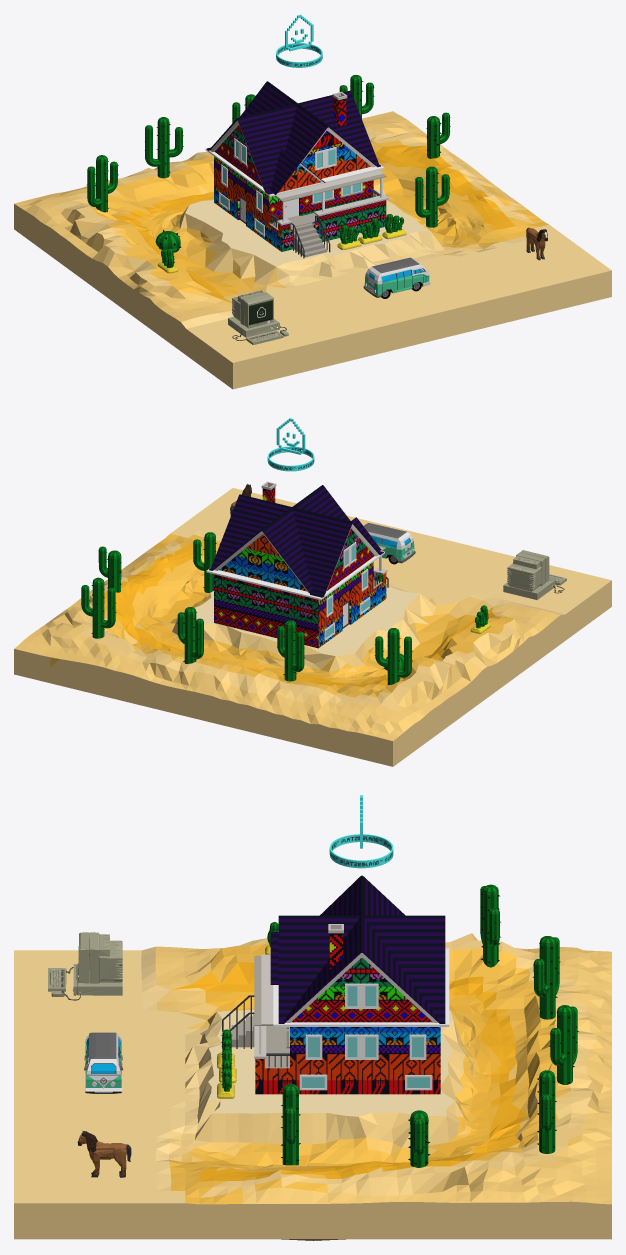
3 renders of one model, top to bottom at view 1: azimuth 30°, elevation 25°; view 2: azimuth 150°, elevation 25°; view 3: azimuth 270°, elevation 25°, orthographic. The views are drawn at different scales.
Visible parts, largest first — view 1: Cube.001, Cube.966, OBJRANDOM_RETRO_PC, VEHICLES_VAN, Cylinder.044, Cylinder.037, Cylinder.045, TYPE_PREMIUM, Cylinder.038, Cylinder.042, ANIMAL_CABALLO; view 2: Cube.001, Cube.966, OBJRANDOM_RETRO_PC, Cylinder.042, Cylinder.045, Cylinder.044, VEHICLES_VAN, Cylinder.043, TYPE_PREMIUM, Cylinder.037, Cylinder.038; view 3: Cube.001, Cube.966, OBJRANDOM_RETRO_PC, VEHICLES_VAN, Cylinder.044, Cylinder.043, Cylinder.045, Cylinder.042, Cylinder.037, TYPE_PREMIUM, ANIMAL_CABALLO, Cylinder.038.
Part boxes in pixels (x1,y1,x2,y2): Cube.001: [14, 111, 611, 389]; Cube.966: [205, 81, 388, 258]; OBJRANDOM_RETRO_PC: [228, 290, 288, 344]; VEHICLES_VAN: [363, 257, 430, 298]; Cylinder.044: [145, 117, 183, 178]; Cylinder.037: [415, 166, 449, 227]; Cylinder.045: [87, 155, 118, 212]; TYPE_PREMIUM: [276, 14, 322, 67]; Cylinder.038: [426, 112, 450, 158]; Cylinder.042: [339, 75, 374, 118]; ANIMAL_CABALLO: [526, 227, 547, 260]; Cube.001: [14, 488, 611, 766]; Cube.966: [206, 481, 388, 648]; OBJRANDOM_RETRO_PC: [503, 550, 566, 599]; Cylinder.042: [81, 577, 116, 638]; Cylinder.045: [374, 628, 412, 684]; Cylinder.044: [277, 620, 304, 681]; VEHICLES_VAN: [363, 523, 415, 564]; Cylinder.043: [177, 607, 203, 663]; TYPE_PREMIUM: [267, 418, 314, 471]; Cylinder.037: [193, 532, 220, 592]; Cylinder.038: [98, 546, 121, 592]; Cube.001: [14, 933, 611, 1239]; Cube.966: [222, 875, 449, 1094]; OBJRANDOM_RETRO_PC: [48, 932, 122, 1000]; VEHICLES_VAN: [84, 1032, 122, 1093]; Cylinder.044: [533, 936, 560, 1019]; Cylinder.043: [549, 1005, 578, 1084]; Cylinder.045: [480, 884, 500, 967]; Cylinder.042: [537, 1070, 556, 1153]; Cylinder.037: [281, 1083, 300, 1165]; TYPE_PREMIUM: [329, 795, 393, 868]; ANIMAL_CABALLO: [77, 1130, 131, 1177]; Cylinder.038: [408, 1110, 430, 1167].
Bounding box in the file's own units: 4002 × 2504 × 4001.
Materials: 44 (7 with a texture image).
